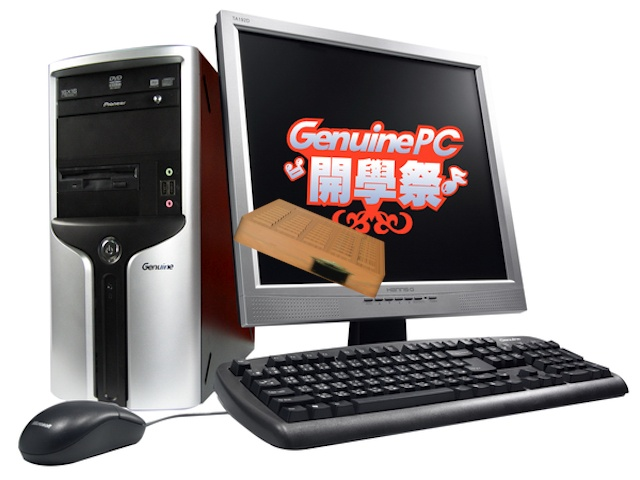calculator: (224, 192, 400, 305)
